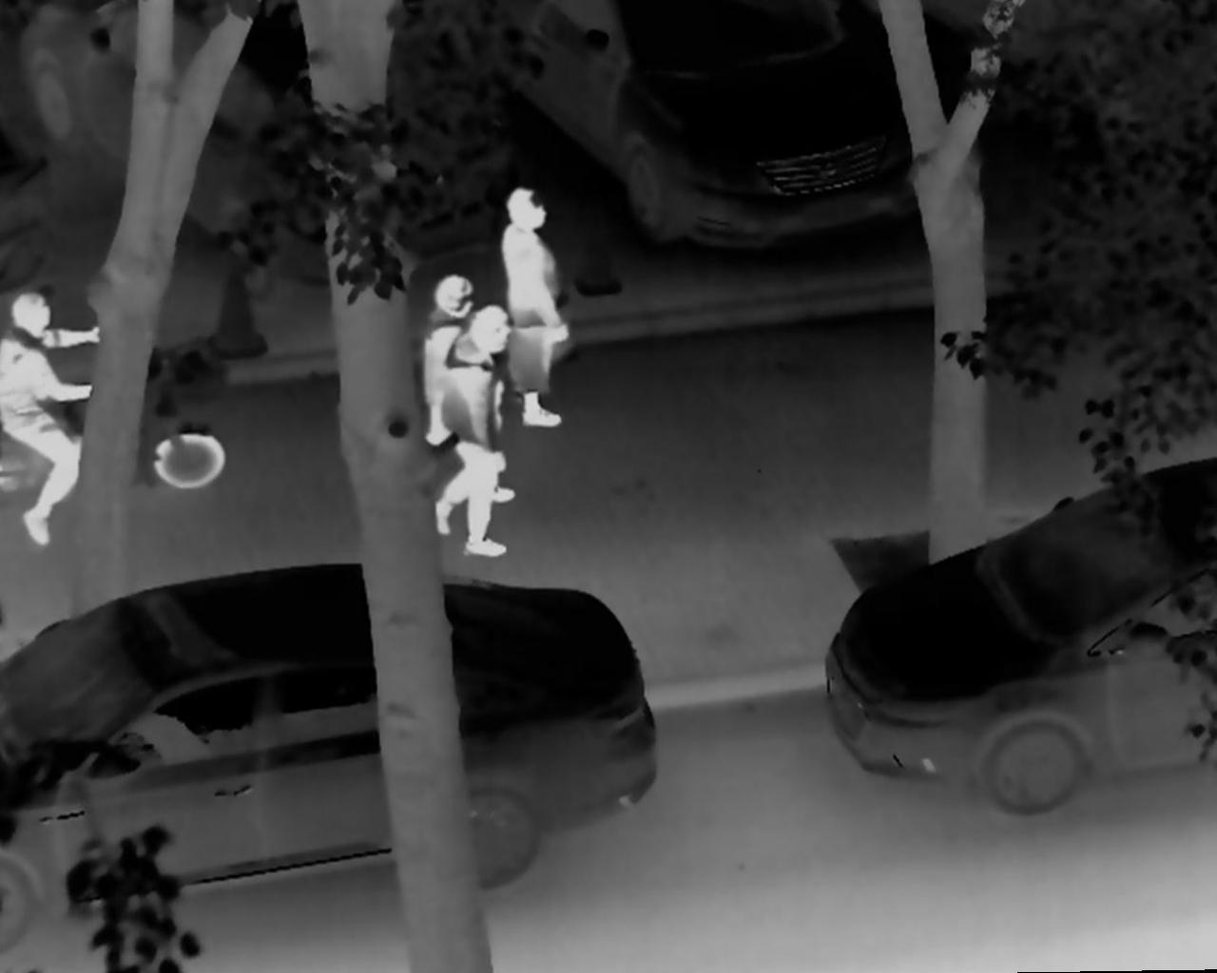person: (491, 176, 574, 430), (432, 305, 513, 562), (403, 270, 502, 451)
